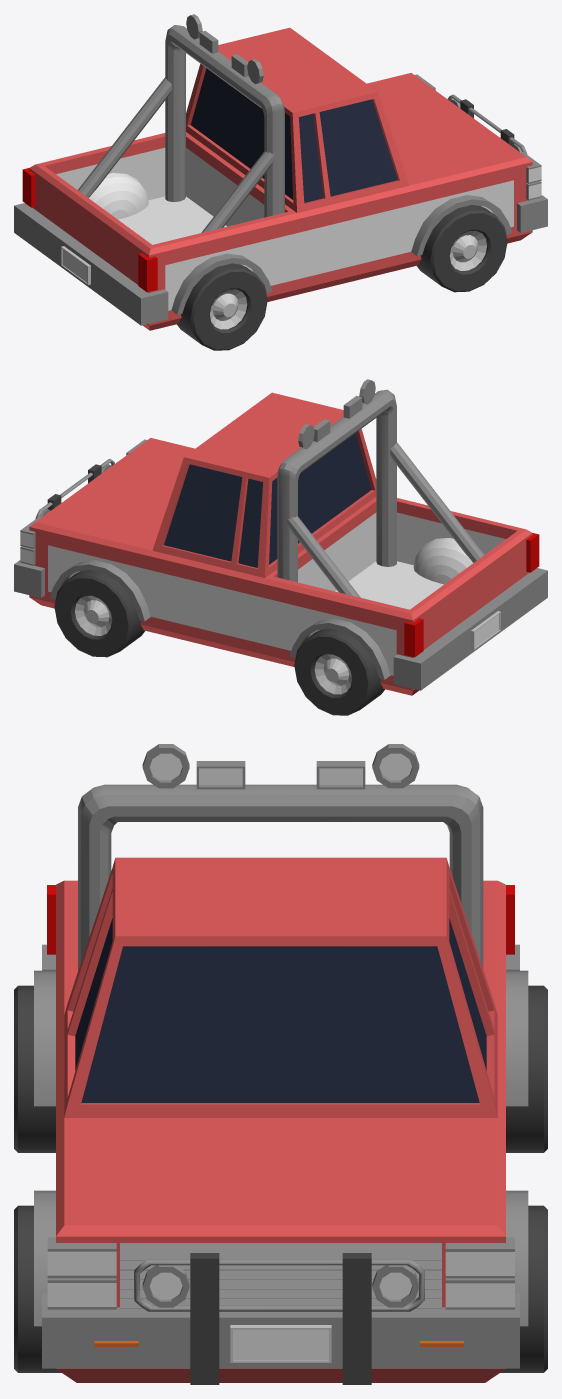
Rendered from StylizedTruck.fbx.
3 views of the same model, one above another, from view 1: azimuth 30°, elevation 25°; view 2: azimuth 150°, elevation 25°; view 3: azimuth 270°, elevation 25° (orthographic). The views are drawn at different scales.
Parts seen in each view (by area): view 1: TruckBody, Rollbar_main, Bumper_rear, Wheel_BR_Tire, Wheel_FR_Tire, Rollbar_smallL, WheelCap_L, Rollbar_smallR, WheelCap_FR, WheelCap_BR, Wheel_BR_Barrel, Wheel_FR_Barrel (+6 smaller); view 2: TruckBody, Rollbar_main, Bumper_rear, Wheel_BL_Tire, Wheel_FL_Tire, Rollbar_smallR, WheelCap_R, WheelCap_BL, WheelCap_FL, Rollbar_smallL, Wheel_BL_Barrel, Wheel_FL_Barrel (+6 smaller); view 3: TruckBody, Rollbar_main, Bumper_front, Bumper_extra, Grill_06, Wheel_BL_Tire, Wheel_BR_Tire, Plate_front, Wheel_FL_Tire, Wheel_FR_Tire, LightHolder, RollBar_Lights_Circles (+15 smaller).
Part boxes in pixels (<box>): TruckBody: <box>29,27,532,330</box>; Rollbar_main: <box>165,25,284,217</box>; Bumper_rear: <box>14,203,168,325</box>; Wheel_BR_Tire: <box>177,263,267,350</box>; Wheel_FR_Tire: <box>417,205,507,292</box>; Rollbar_smallL: <box>78,77,171,197</box>; WheelCap_L: <box>89,173,148,219</box>; Rollbar_smallR: <box>201,151,274,232</box>; WheelCap_FR: <box>411,195,512,256</box>; WheelCap_BR: <box>171,253,272,314</box>; Wheel_BR_Barrel: <box>210,289,247,329</box>; Wheel_FR_Barrel: <box>449,231,486,270</box>; TruckBody: <box>29,392,532,695</box>; Rollbar_main: <box>277,389,396,582</box>; Bumper_rear: <box>393,568,547,690</box>; Wheel_BL_Tire: <box>294,628,384,715</box>; Wheel_FL_Tire: <box>54,570,144,657</box>; Rollbar_smallR: <box>390,442,484,562</box>; WheelCap_R: <box>413,538,472,584</box>; WheelCap_BL: <box>289,618,390,679</box>; WheelCap_FL: <box>49,560,150,621</box>; Rollbar_smallL: <box>287,516,360,597</box>; Wheel_BL_Barrel: <box>314,654,351,694</box>; Wheel_FL_Barrel: <box>75,596,112,635</box>; TruckBody: <box>56,857,505,1382</box>; Rollbar_main: <box>78,784,483,970</box>; Bumper_front: <box>42,1293,519,1368</box>; Bumper_extra: <box>190,1253,371,1384</box>; Grill_06: <box>120,1243,441,1260</box>; Wheel_BL_Tire: <box>506,985,547,1152</box>; Wheel_BR_Tire: <box>14,985,55,1152</box>; Plate_front: <box>230,1325,331,1362</box>; Wheel_FL_Tire: <box>500,1205,547,1372</box>; Wheel_FR_Tire: <box>14,1205,61,1372</box>; LightHolder: <box>134,1259,424,1311</box>; RollBar_Lights_Circles: <box>142,744,419,788</box>.
Bounding box in the file's own units: 16.04 × 9.01 × 9.49.
